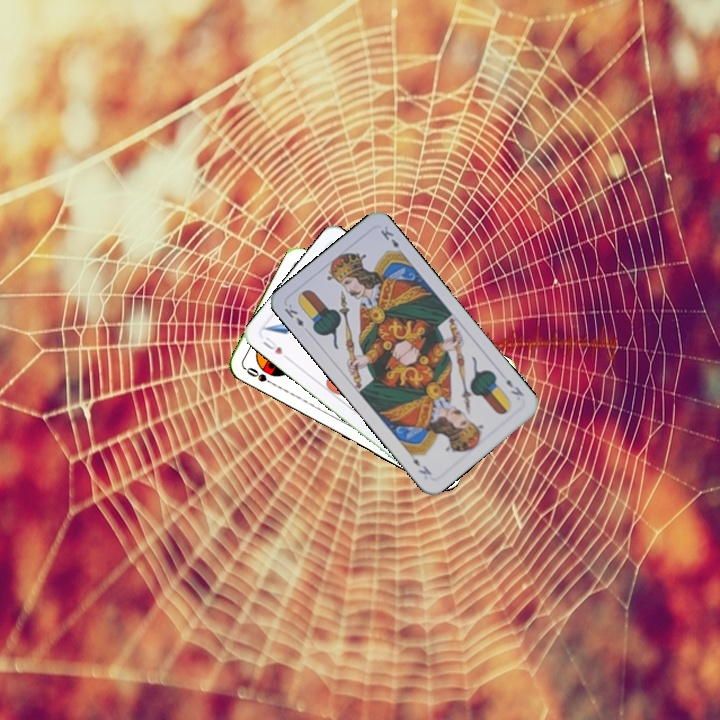EK: (280, 300, 307, 329), (502, 375, 527, 399)
HU: (259, 332, 286, 357)
SO: (241, 363, 278, 389)
